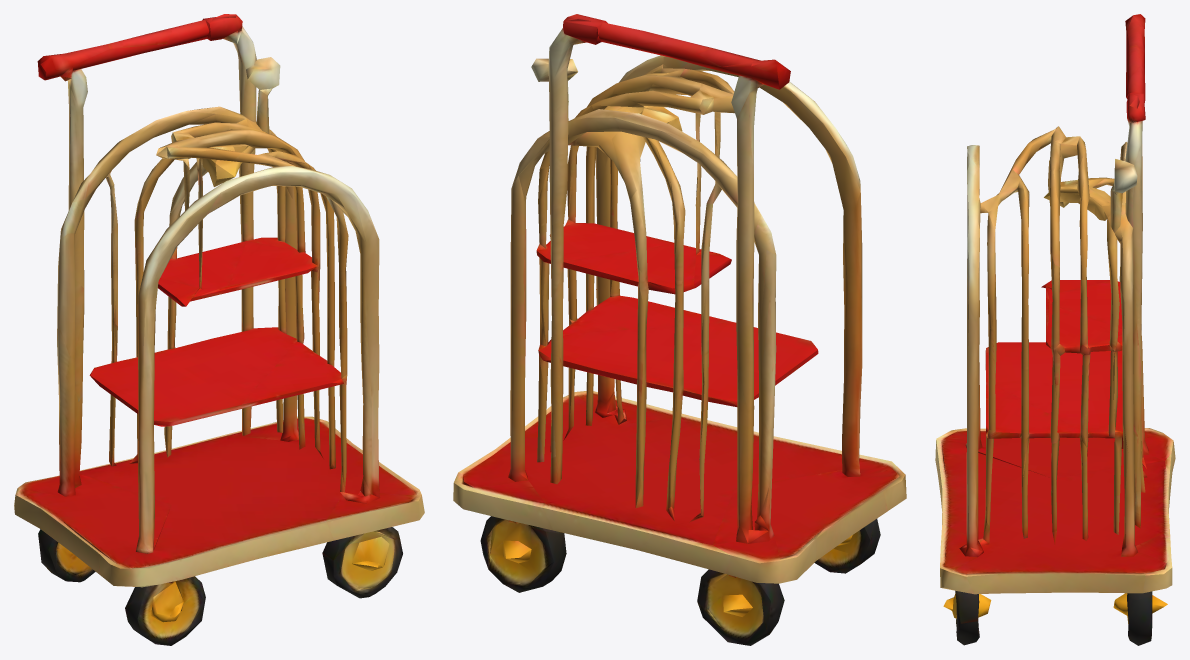
File: bellboyTrolley.glb
3 renders of one model, left to right at view 1: azimuth 30°, elevation 25°; view 2: azimuth 150°, elevation 25°; view 3: azimuth 270°, elevation 25°, orthographic. The views are drawn at different scales.
Visible parts, largest first — view 1: model; view 2: model; view 3: model.
Part boxes in pixels (x1=…): model: x1=14, y1=14, x2=424, y2=645; model: x1=453, y1=14, x2=906, y2=645; model: x1=935, y1=14, x2=1175, y2=645.
Size of the model in its own units: 1.16 by 1.9 by 0.796.
1 material, 1 textured.
